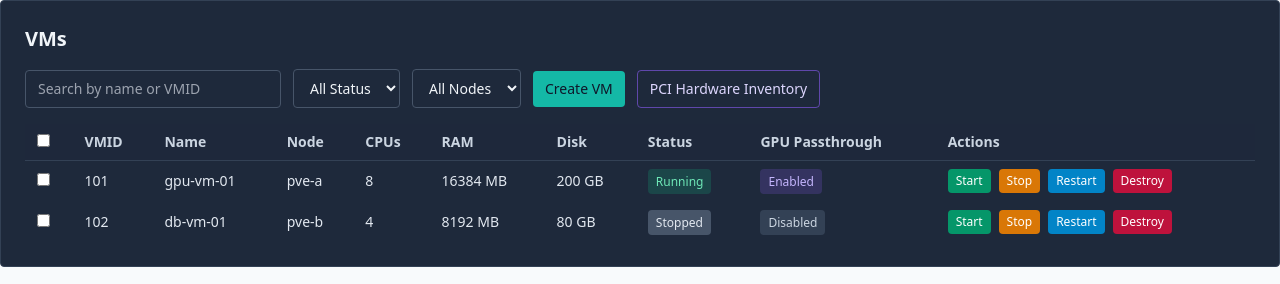
Test: VmListPage › filters VM table using search input
The width and height of the screenshot is (1280, 284).
Expected: the row with test id "row-vm-101" is shown, [25, 160, 1255, 202]
In the field with test id "input-vm-search": (153, 88) [25, 70, 281, 108], type "db-vm-01"
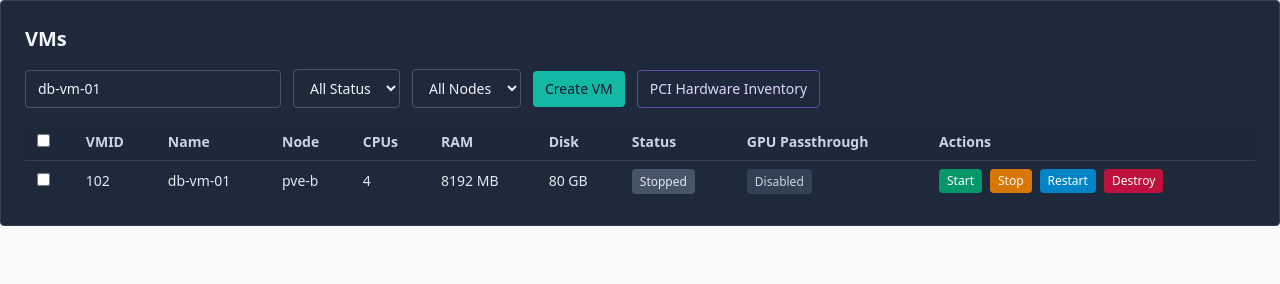
Expected: the row with test id "row-vm-102" is shown, [25, 160, 1255, 201]
Result: the row with test id "row-vm-101" is gone
